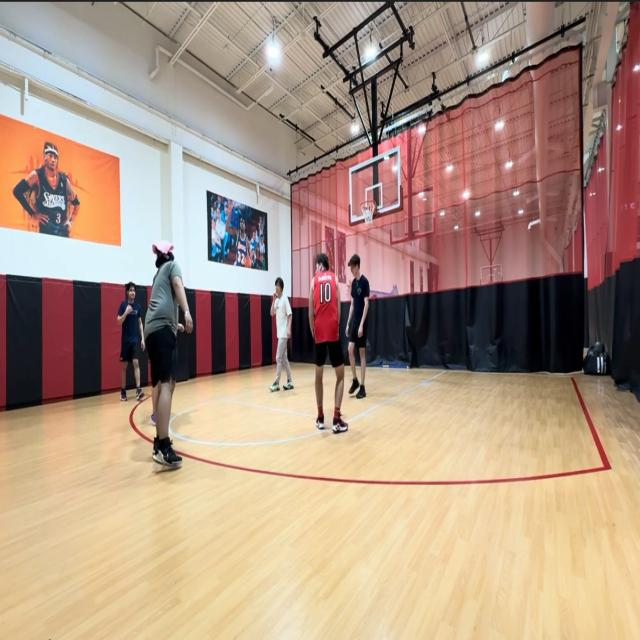Basketball Rim: (360, 200, 376, 224)
Player: (143, 242, 193, 465), (308, 252, 348, 435), (116, 281, 145, 403), (346, 255, 370, 400), (268, 276, 294, 392)
